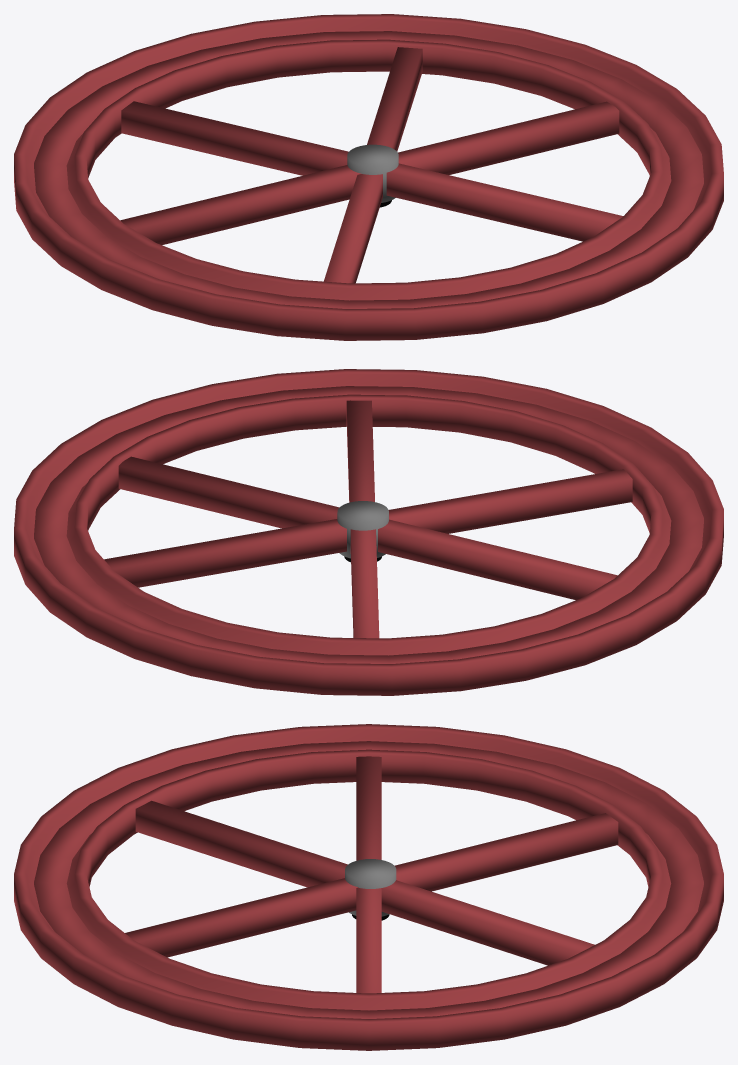
Rendered from Wheel_knob.fbx.
3 renders of one model, top to bottom at view 1: azimuth 30°, elevation 25°; view 2: azimuth 150°, elevation 25°; view 3: azimuth 270°, elevation 25°, orthographic.
Visible parts, largest first — view 1: Cube.001; view 2: Cube.001; view 3: Cube.001.
Part boxes in pixels (left/top/right/bottom): Cube.001: left=14, top=14, right=723, bottom=340; Cube.001: left=14, top=369, right=723, bottom=695; Cube.001: left=14, top=724, right=723, bottom=1050.
Bounding box in the file's own units: 187 × 12.93 × 187.
